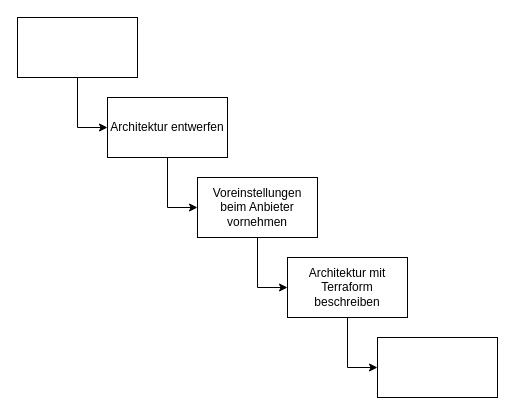
The diagram is 515 pixels wide and 415 high, and some of its shapes have lost their labels. The centre of each missing label's shape, as x and y in pixels:
"Cloud Anbieter auswählen" belongs at pixel 77 47.
"Pipeline einrichten" belongs at pixel 437 367.
